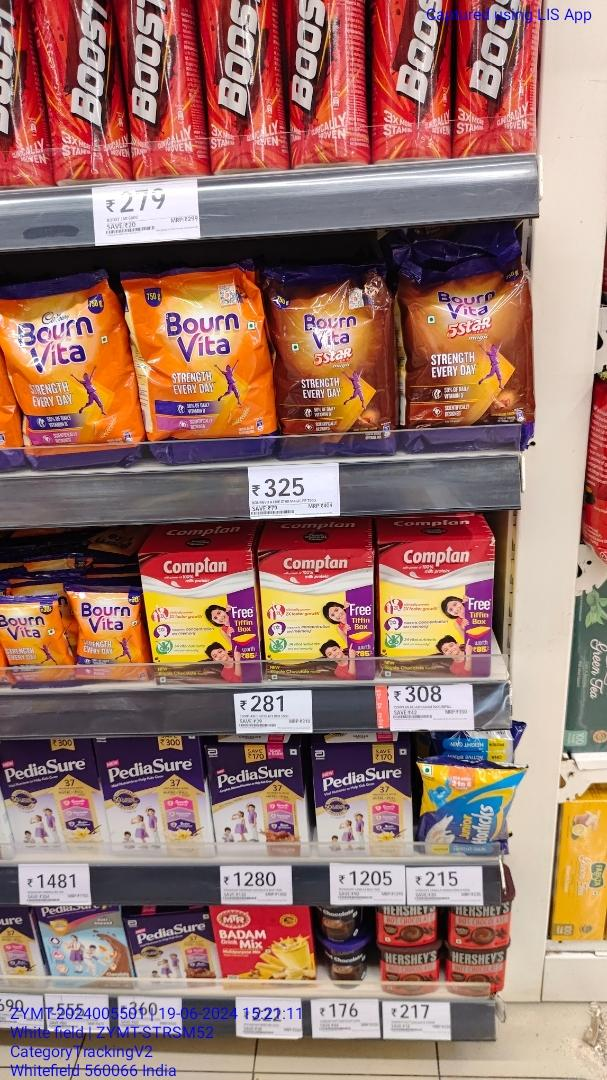BOURN_VITA_750_G_POUCH: (136, 277, 269, 460), (6, 284, 128, 467)
BOURN_VITA_75_G_POUCH: (70, 586, 144, 684), (0, 598, 67, 690)
BOURN_VITA_FIVE_STAR_MAGIC_750_G_POUCH: (403, 258, 532, 449), (282, 277, 398, 455)
